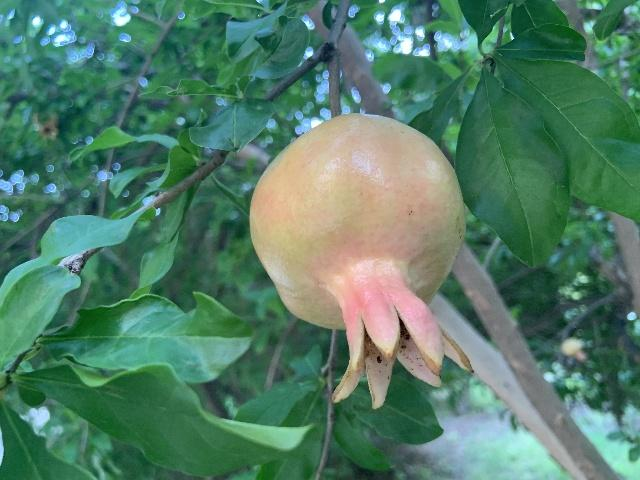mid-growth: (248, 112, 474, 410), (561, 338, 586, 361)
